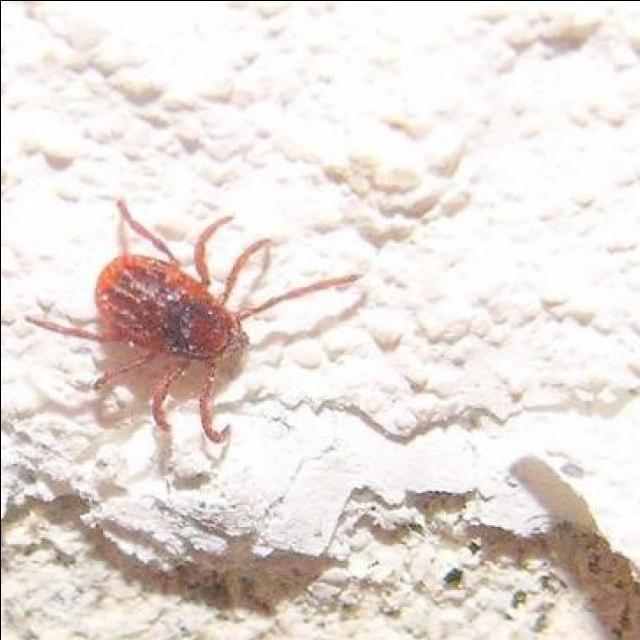Rhipicephalus Sanguineus-F: (23, 199, 362, 473)
